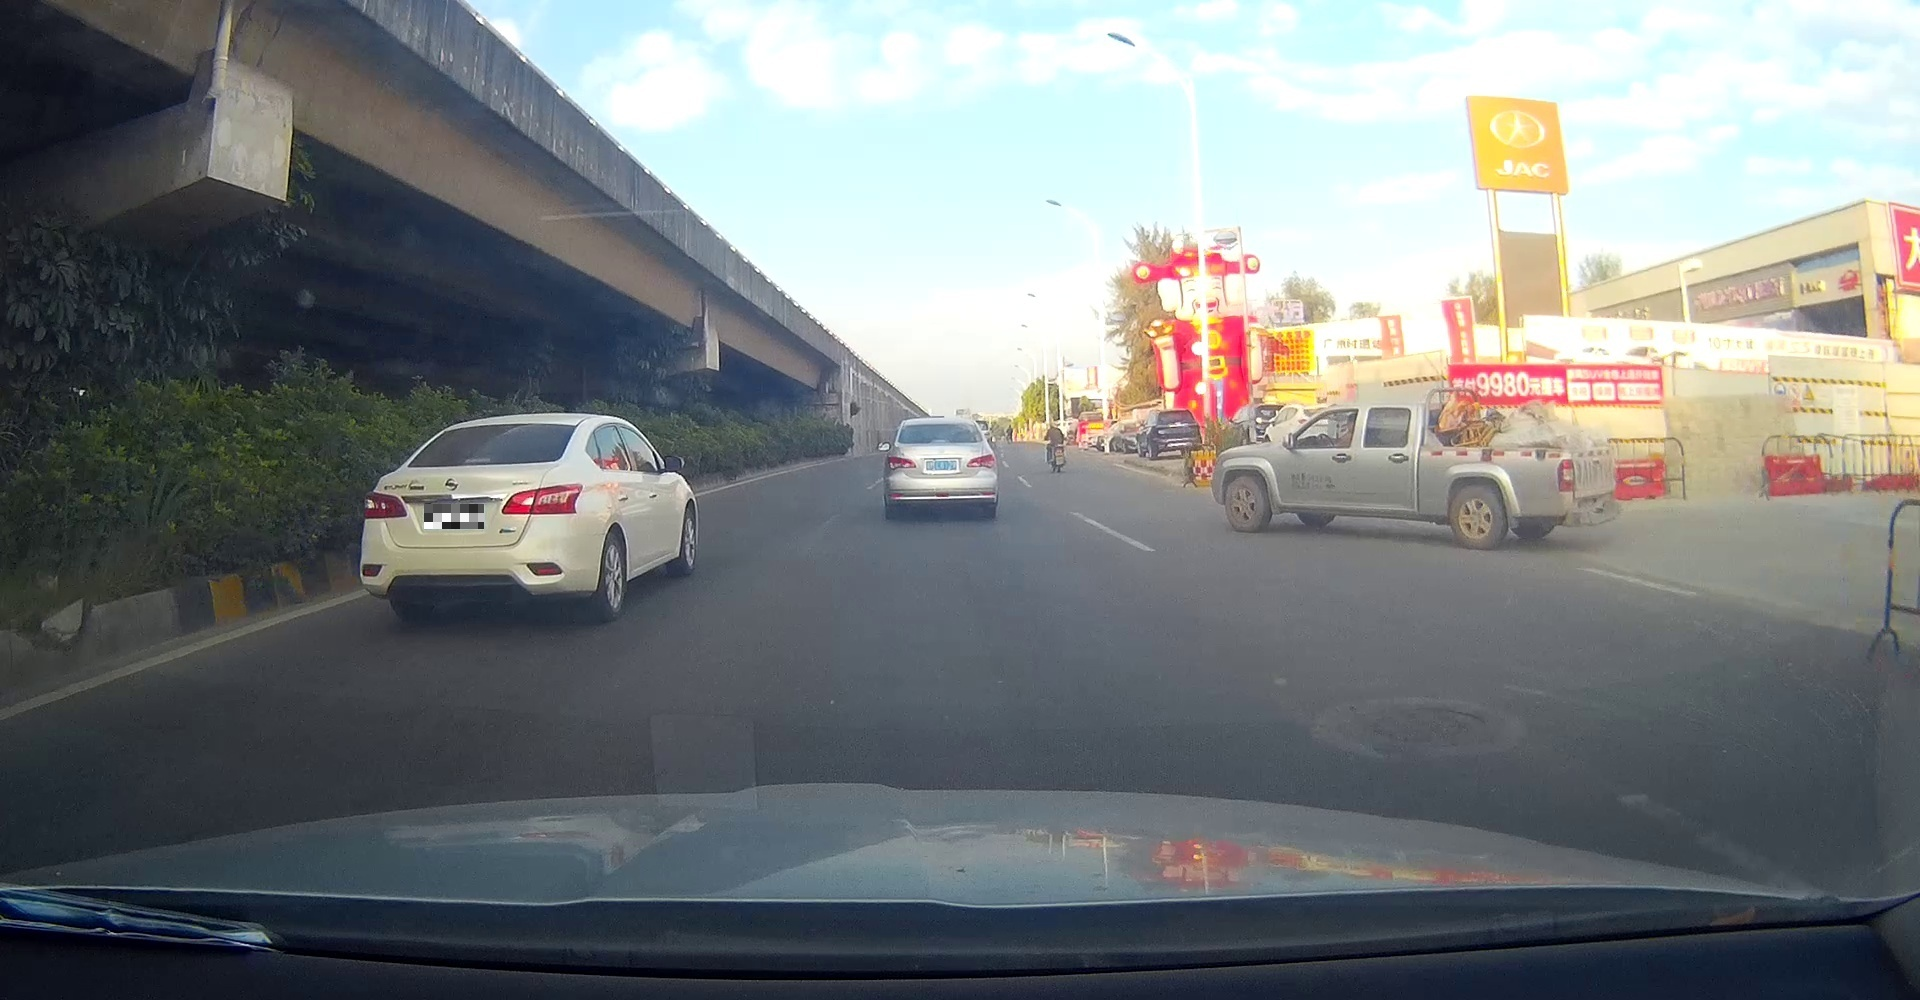L_light: (362, 490, 408, 520), (888, 456, 916, 470)
R_light: (500, 482, 583, 515), (968, 453, 996, 470)
T_light: (462, 458, 491, 464), (931, 439, 949, 443)
day-no: (361, 412, 583, 621), (884, 418, 997, 516)
plate_1: (424, 504, 484, 529)
